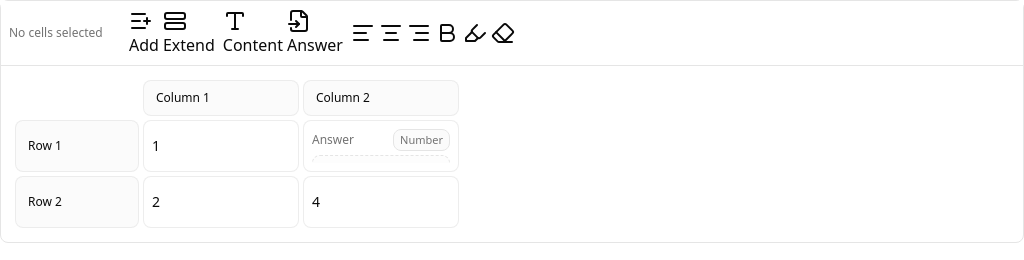
Test: TableCanvas › suppresses the final click after pointer drag without blocking keyboard
Step 1. Press the mouse on the button "1" → (221, 146), box [143,120,299,172]
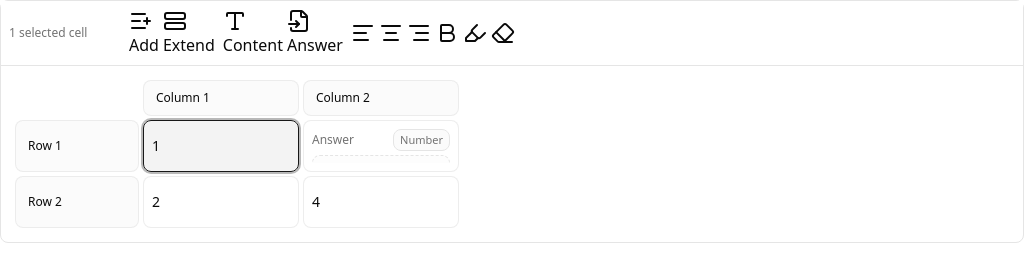
Step 2. Hover over the button "4" → (381, 202), box [303,176,459,228]
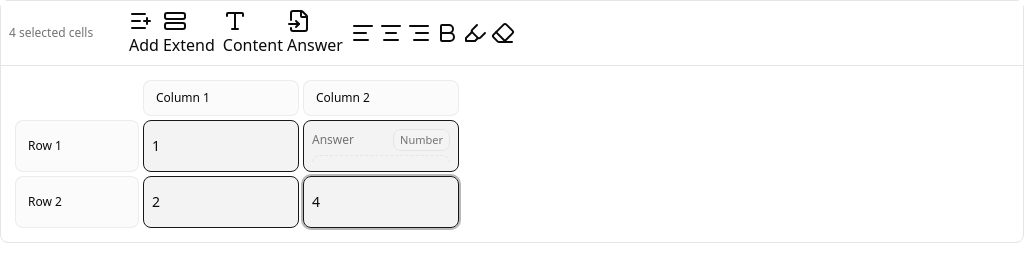
Step 3. Click the button "1" → (221, 146), box [143,120,299,172]
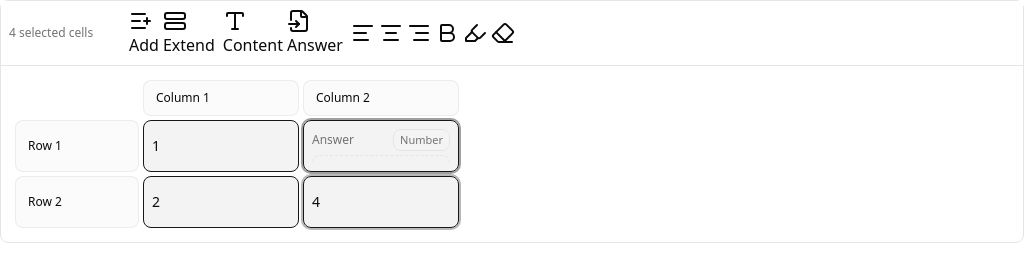
Check: the text "4 selected cells" is shown, box [9,24,93,41]
Step 4. Press Enter
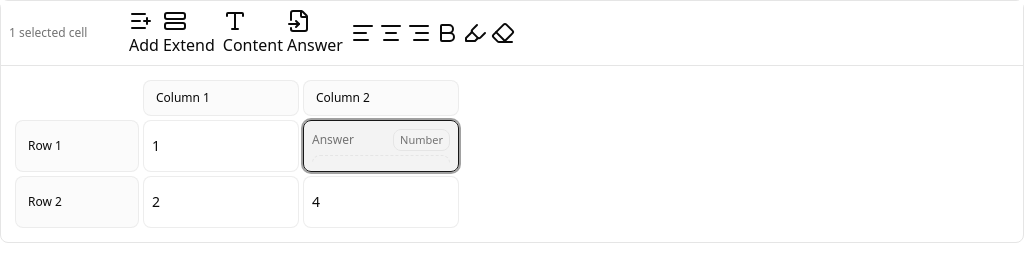
Check: the text "1 selected cell" is shown, box [9,24,88,41]
